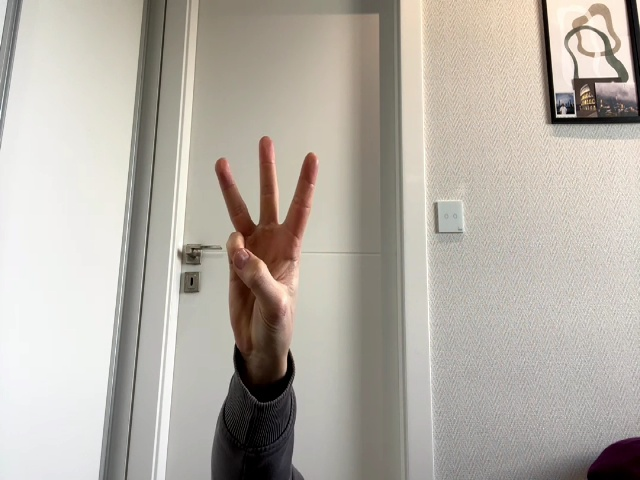W: (215, 135, 318, 351)
